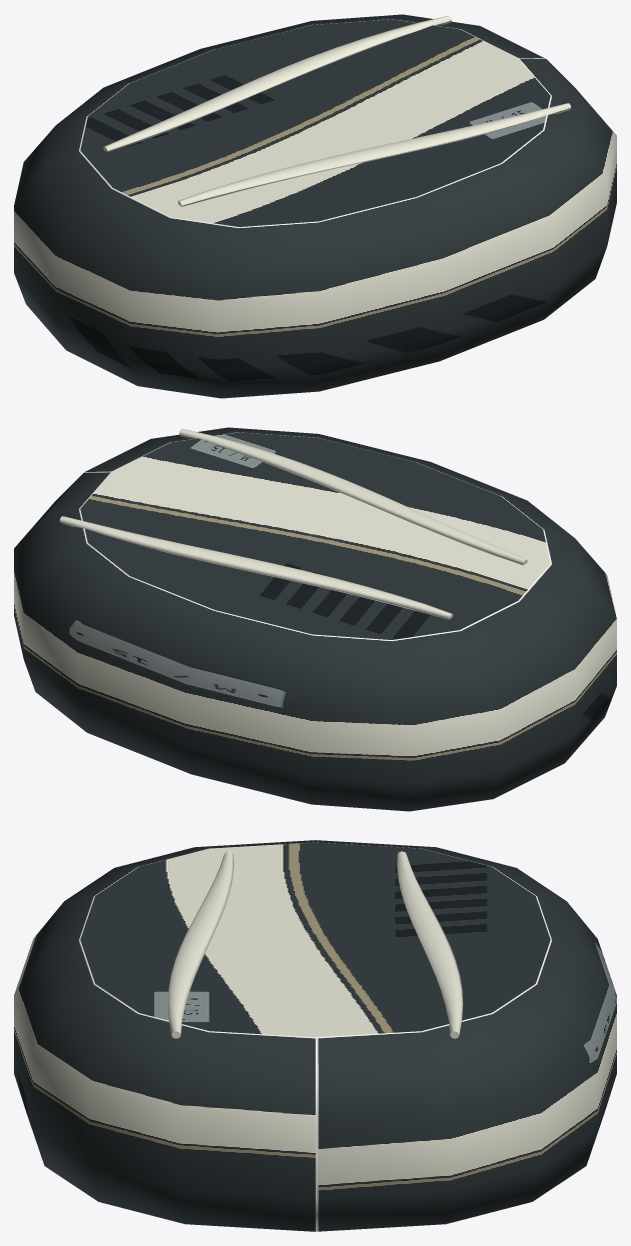
File: MotorCowl_15_R_深緑・銀襟.glb
3 renders of one model, top to bottom at view 1: azimuth 30°, elevation 25°; view 2: azimuth 150°, elevation 25°; view 3: azimuth 270°, elevation 25°, orthographic. The views are drawn at different scales.
Visible parts, largest first — view 1: MotorCowl_15_R; view 2: MotorCowl_15_R; view 3: MotorCowl_15_R.
Boxes of the visible parts, bbox=[...] form: MotorCowl_15_R: bbox=[14, 14, 616, 398]; MotorCowl_15_R: bbox=[14, 427, 616, 811]; MotorCowl_15_R: bbox=[14, 840, 616, 1231].
Bounding box in the file's own units: 0.332 × 0.1194 × 0.286.
1 material, 1 textured.
